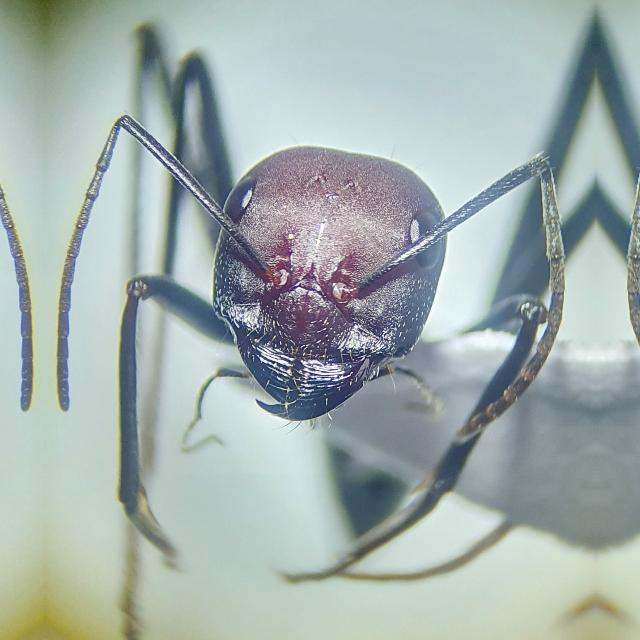Cataglyphis: (128, 134, 588, 556)
